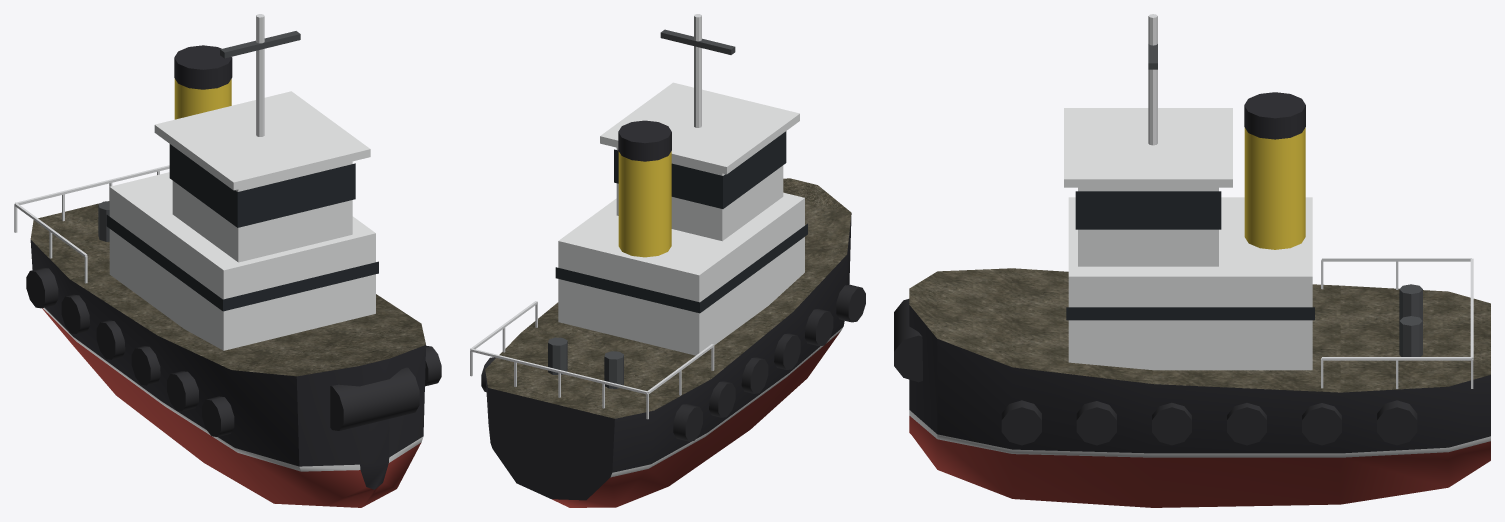
File: boat_tug.glb
3 renders of one model, left to right at view 1: azimuth 30°, elevation 25°; view 2: azimuth 150°, elevation 25°; view 3: azimuth 270°, elevation 25°, orthographic. The views are drawn at different scales.
Parts seen in each view (by area): view 1: boat_tug; view 2: boat_tug; view 3: boat_tug.
Boxes of the visible parts, x1,y1,x2,y2 form: boat_tug: (14, 14, 441, 507); boat_tug: (470, 14, 865, 507); boat_tug: (894, 14, 1490, 507).
Size of the model in its own units: 0.29 by 0.565 by 0.6362.
Materials: 9 (1 with a texture image).
